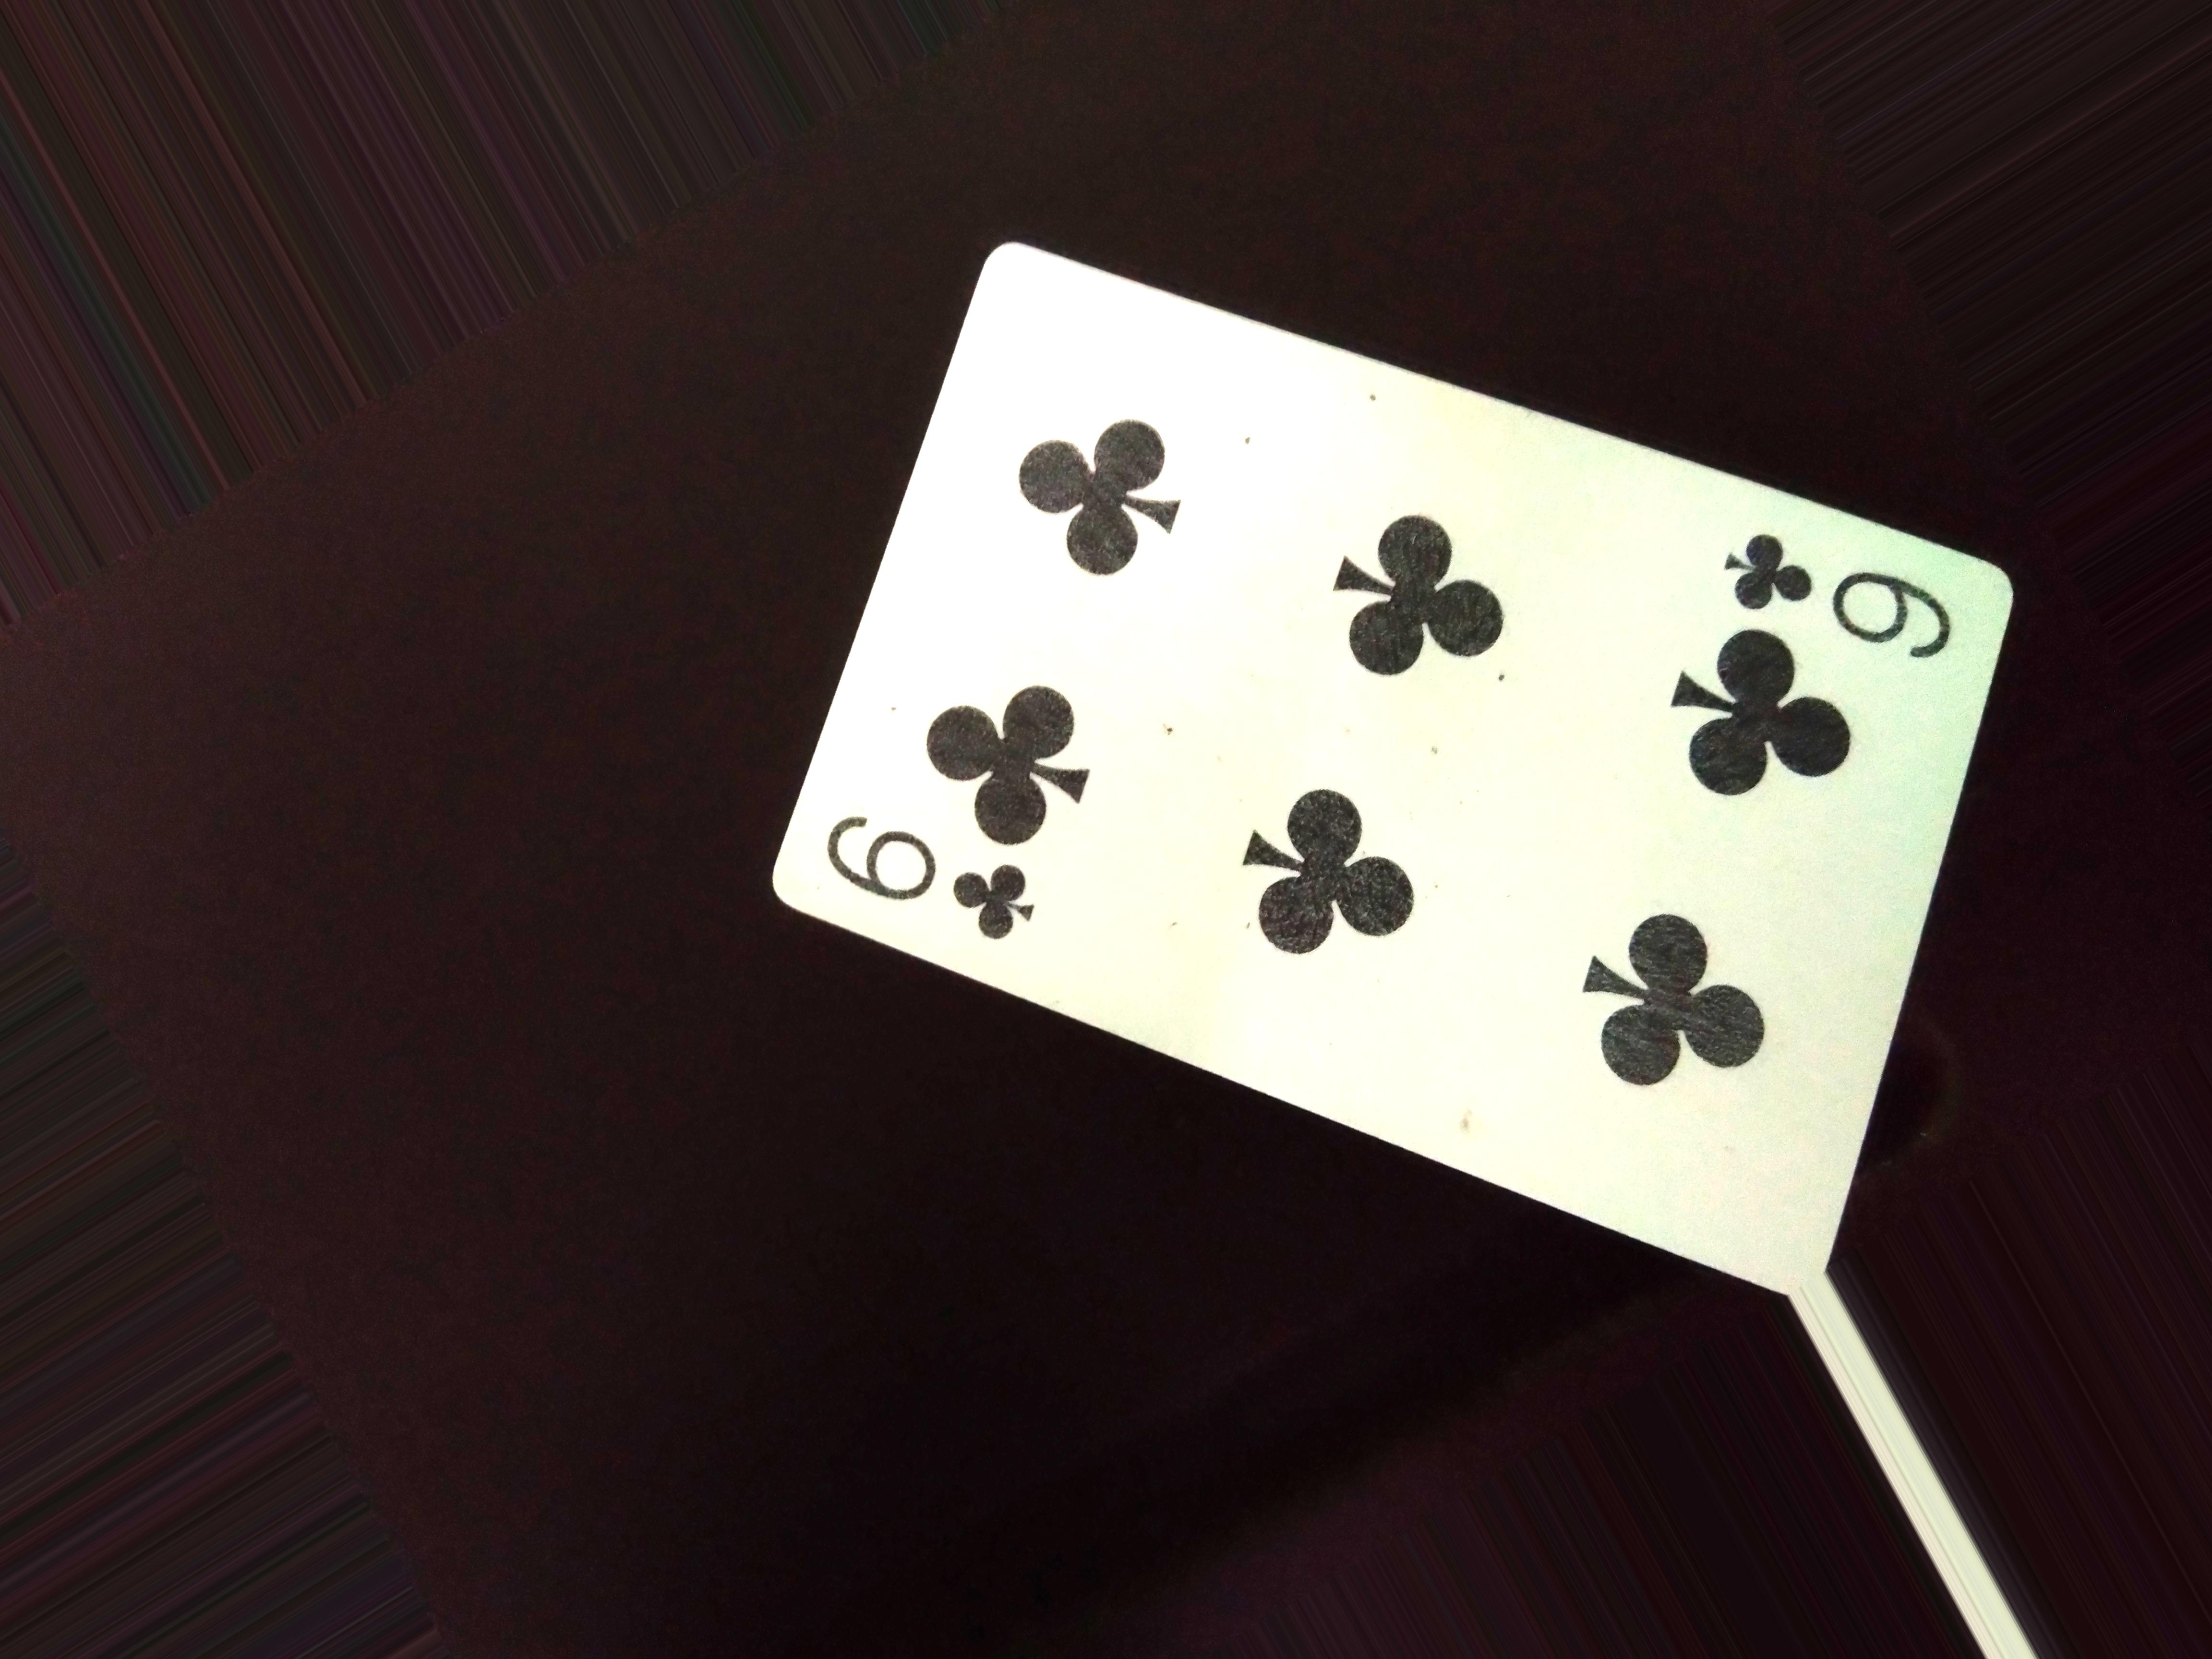6C: (1700, 505, 1954, 664)
